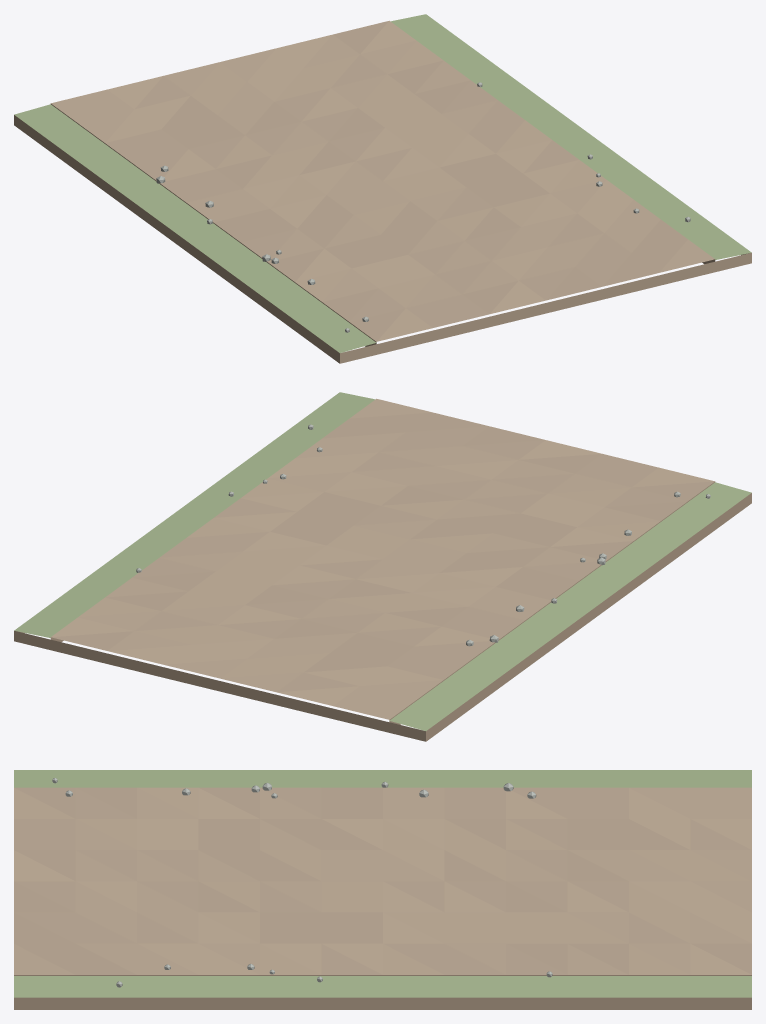
The model's file is dirt_straight.glb.
3 renders of one model, top to bottom at view 1: azimuth 30°, elevation 25°; view 2: azimuth 150°, elevation 25°; view 3: azimuth 270°, elevation 25°, orthographic. The views are drawn at different scales.
Visible parts, largest first — view 1: Body.006; view 2: Body.006; view 3: Body.006.
Boxes of the visible parts, bbox=[...] form: Body.006: bbox=[14, 14, 751, 363]; Body.006: bbox=[14, 392, 751, 741]; Body.006: bbox=[14, 770, 751, 1009].
Bounding box in the file's own units: 7.3 × 0.315 × 10.
